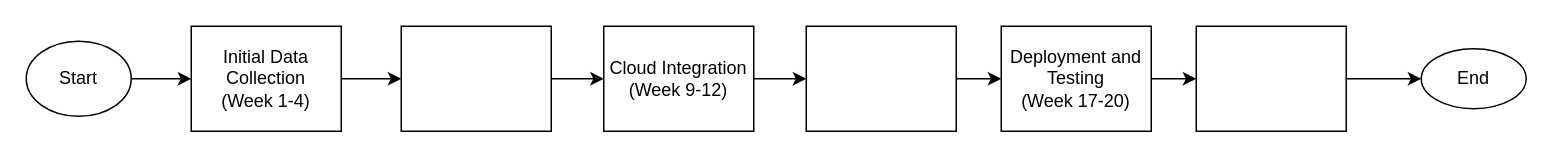
Image size: 1553x158. Some labels were removed from this diagram. Each missing label, with the box of its shape:
Dev-Ops Pipeline Setup (Week 13-16): (805, 25, 956, 131)
Final Evaluation and Improvements (Week 21-24): (1195, 25, 1346, 131)
Model Developement (Week 5-8): (400, 25, 551, 131)
